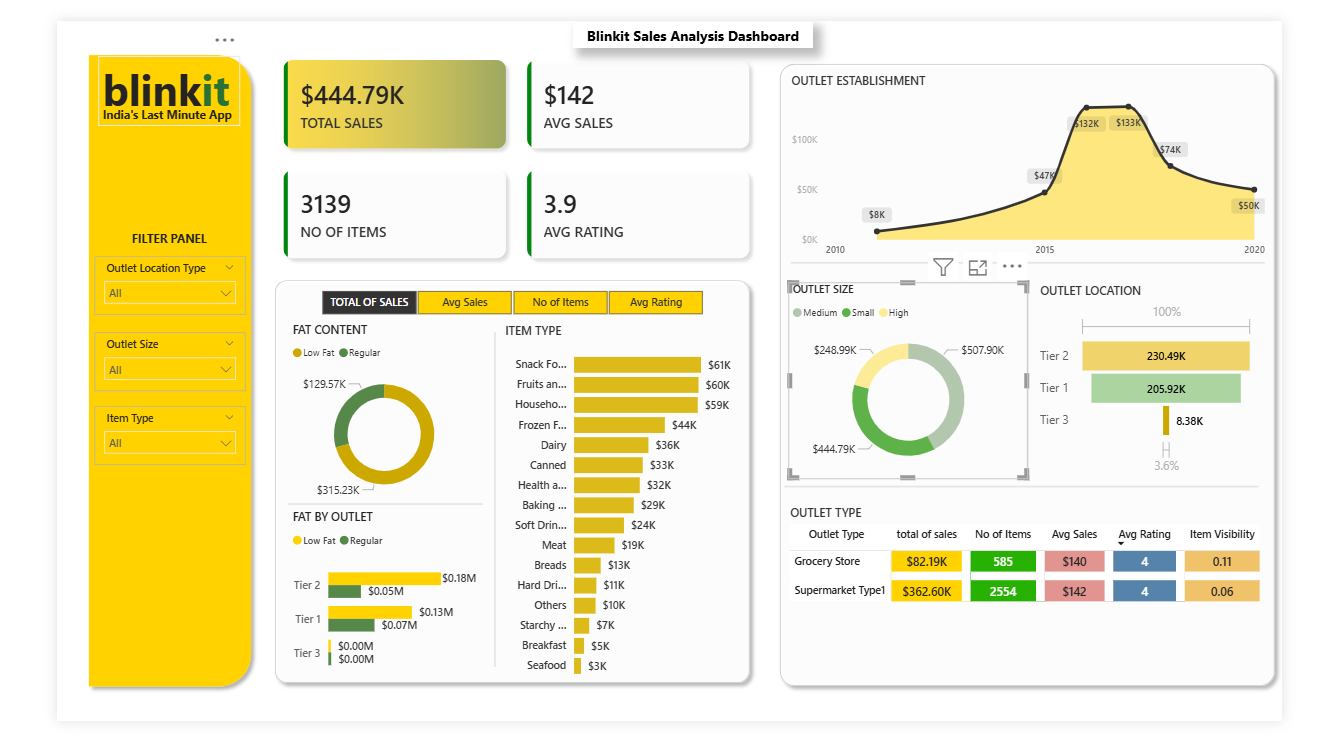

The page's visual inventory and layout, read from the dashboard file:
{"tool":"powerbi","page":{"name":"Page 1","canvas":[1400,800],"ordinal":0},"visuals":[{"type":"shape","box":[26.8,29.5,203.8,740],"z":0},{"type":"textbox","box":[46.9,40.2,163.5,80.4],"z":1000},{"type":"textbox","box":[46.9,92.5,166.2,28.2],"z":2000},{"type":"cardVisual","fields":{"Data":["BlinkIT Grocery Data.total of sales","BlinkIT Grocery Data.Avg Sales","BlinkIT Grocery Data.No of Items","BlinkIT Grocery Data.Avg Rating"]},"box":[230.5,16.2,591.6,285.7],"z":3000},{"type":"shape","box":[239.9,287.1,560.6,478.4],"z":4000},{"type":"donutChart","title":"FAT CONTENT","fields":{"Y":["BlinkIT Grocery Data.total of sales"],"Category":["BlinkIT Grocery Data.Item Fat Content"]},"box":[264.2,342.3,219.7,214.3],"z":5000},{"type":"slicer","fields":{"Values":["Metrics.Metrics"]},"box":[277.6,301.9,485.2,40.4],"z":6000},{"type":"clusteredBarChart","title":"FAT BY OUTLET","fields":{"Y":["BlinkIT Grocery Data.total of sales"],"Category":["BlinkIT Grocery Data.Outlet Location Type"],"Series":["BlinkIT Grocery Data.Item Fat Content"]},"box":[264.2,556.6,219.7,200.8],"z":7000},{"type":"shape","box":[264.2,527,222.4,49.9],"z":8000},{"type":"shape","box":[483.8,355.8,32.3,382.8],"z":9000},{"type":"barChart","title":"ITEM TYPE","fields":{"Y":["BlinkIT Grocery Data.total of sales"],"Category":["BlinkIT Grocery Data.Item Type"]},"box":[506.7,343.7,284.4,416.4],"z":10000},{"type":"shape","box":[816.7,40.4,583.6,729.1],"z":11000},{"type":"lineChart","title":"OUTLET  ESTABLISHMENT","fields":{"Y":["BlinkIT Grocery Data.total of sales"],"Category":["BlinkIT Grocery Data.Outlet Establishment Year"]},"box":[834.2,58,551.2,219.7],"z":12000},{"type":"shape","box":[838.3,252,541.8,49.9],"z":13000},{"type":"donutChart","title":"OUTLET SIZE","fields":{"Y":["BlinkIT Grocery Data.total of sales"],"Category":["BlinkIT Grocery Data.Outlet Size"]},"box":[835.6,299.2,274.9,225.1],"z":14000},{"type":"shape","box":[1093,299.2,32.3,215.6],"z":15000},{"type":"funnel","title":" OUTLET LOCATION","fields":{"Y":["Sum(BlinkIT Grocery Data.Sales)"],"Category":["BlinkIT Grocery Data.Outlet Location Type"]},"box":[1118.6,299.2,254.7,225.1],"z":16000},{"type":"shape","box":[831.5,506.7,541.8,49.9],"z":17000},{"type":"pivotTable","title":"OUTLET TYPE","fields":{"Rows":["BlinkIT Grocery Data.Outlet Type"],"Values":["BlinkIT Grocery Data.total of sales","BlinkIT Grocery Data.No of Items","BlinkIT Grocery Data.Avg Sales","BlinkIT Grocery Data.Avg Rating","Avg(BlinkIT Grocery Data.Item Visibility)"]},"box":[832.9,552.6,553.9,186],"z":18000},{"type":"slicer","fields":{"Values":["BlinkIT Grocery Data.Outlet Location Type"]},"box":[43.1,268.2,172.5,67.4],"z":19000},{"type":"slicer","fields":{"Values":["BlinkIT Grocery Data.Outlet Size"]},"box":[43.1,355.8,172.5,67.4],"z":20000},{"type":"slicer","fields":{"Values":["BlinkIT Grocery Data.Item Type"]},"box":[43.1,439.4,172.5,67.4],"z":21000},{"type":"textbox","box":[75.5,234.5,105.1,35],"z":22000},{"type":"shape","box":[590.3,1.3,273.6,29.6],"z":23000}]}

Visuals, with their boxes in screenshot pixels (x1, y1, x2, y2), scaled from the page's 1400x800 canvas onto the 1342x752 screenshot:
shape: x1=26 y1=28 x2=221 y2=723
textbox: x1=45 y1=38 x2=202 y2=113
textbox: x1=45 y1=87 x2=204 y2=113
cardVisual - BlinkIT Grocery Data.total of sales x BlinkIT Grocery Data.Avg Sales: x1=221 y1=15 x2=788 y2=284
shape: x1=230 y1=270 x2=767 y2=720
"FAT CONTENT" donutChart: x1=253 y1=322 x2=464 y2=523
slicer - Metrics.Metrics: x1=266 y1=284 x2=731 y2=322
"FAT BY OUTLET" clusteredBarChart: x1=253 y1=523 x2=464 y2=712
shape: x1=253 y1=495 x2=466 y2=542
shape: x1=464 y1=334 x2=495 y2=694
"ITEM TYPE" barChart: x1=486 y1=323 x2=758 y2=714
shape: x1=783 y1=38 x2=1341 y2=723
"OUTLET  ESTABLISHMENT" lineChart: x1=800 y1=55 x2=1328 y2=261
shape: x1=804 y1=237 x2=1323 y2=284
"OUTLET SIZE" donutChart: x1=801 y1=281 x2=1064 y2=493
shape: x1=1048 y1=281 x2=1079 y2=484
" OUTLET LOCATION" funnel: x1=1072 y1=281 x2=1316 y2=493
shape: x1=797 y1=476 x2=1316 y2=523
"OUTLET TYPE" pivotTable: x1=798 y1=519 x2=1329 y2=694
slicer - BlinkIT Grocery Data.Outlet Location Type: x1=41 y1=252 x2=207 y2=315
slicer - BlinkIT Grocery Data.Outlet Size: x1=41 y1=334 x2=207 y2=398
slicer - BlinkIT Grocery Data.Item Type: x1=41 y1=413 x2=207 y2=476
textbox: x1=72 y1=220 x2=173 y2=253
shape: x1=566 y1=1 x2=828 y2=29
